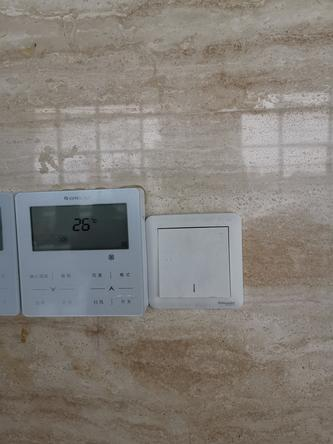switch: (152, 218, 239, 303)
